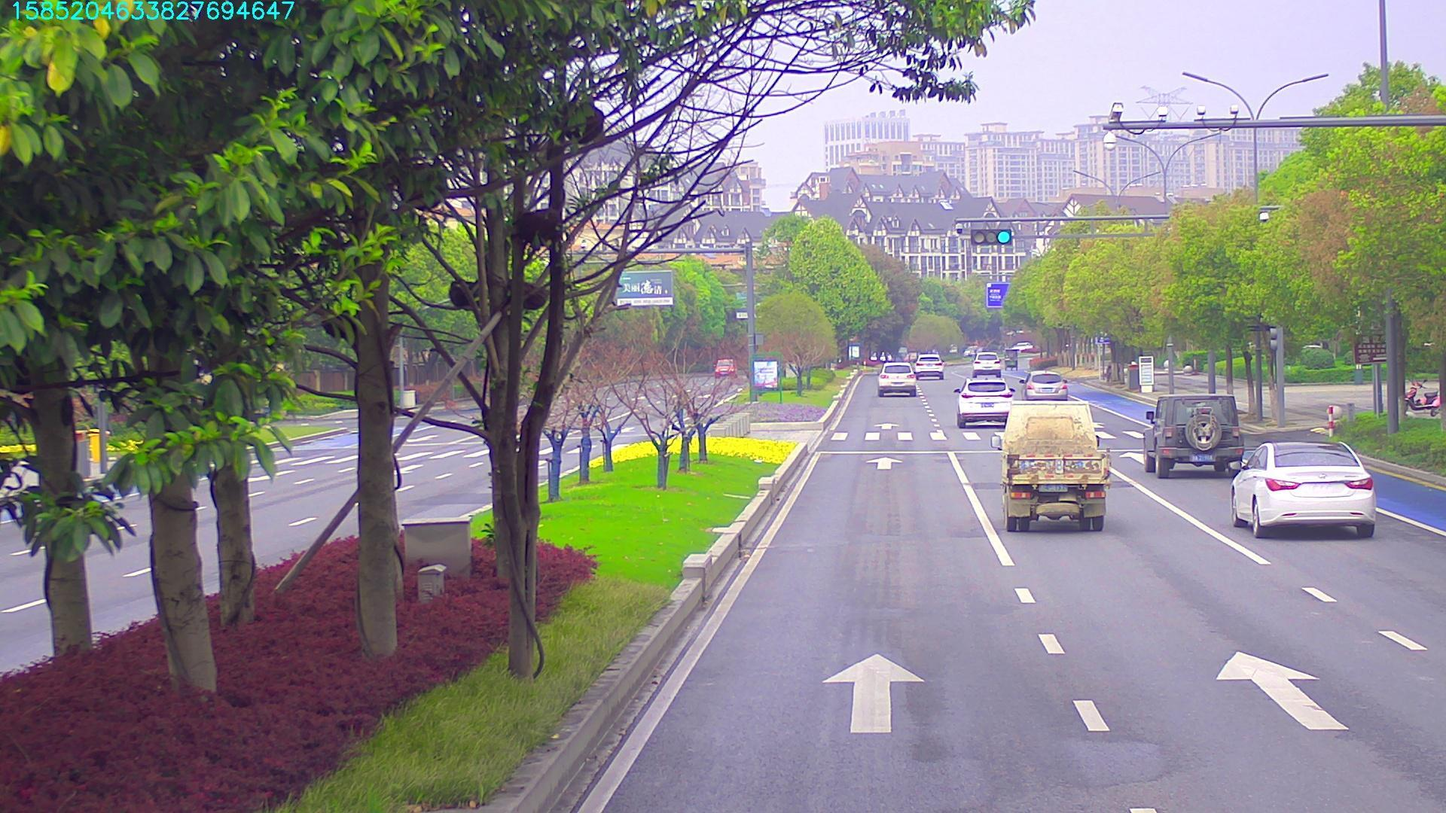green: (964, 229, 1008, 246)
